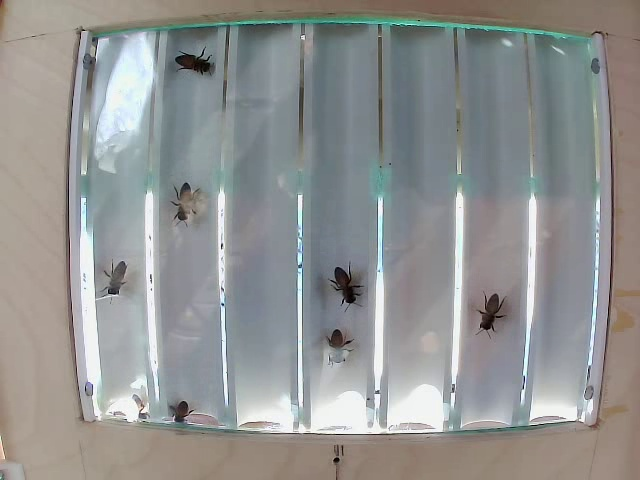bee: (323, 251, 365, 308), (318, 326, 357, 369), (162, 178, 199, 222), (166, 54, 212, 80), (105, 266, 135, 301), (483, 291, 497, 341)
